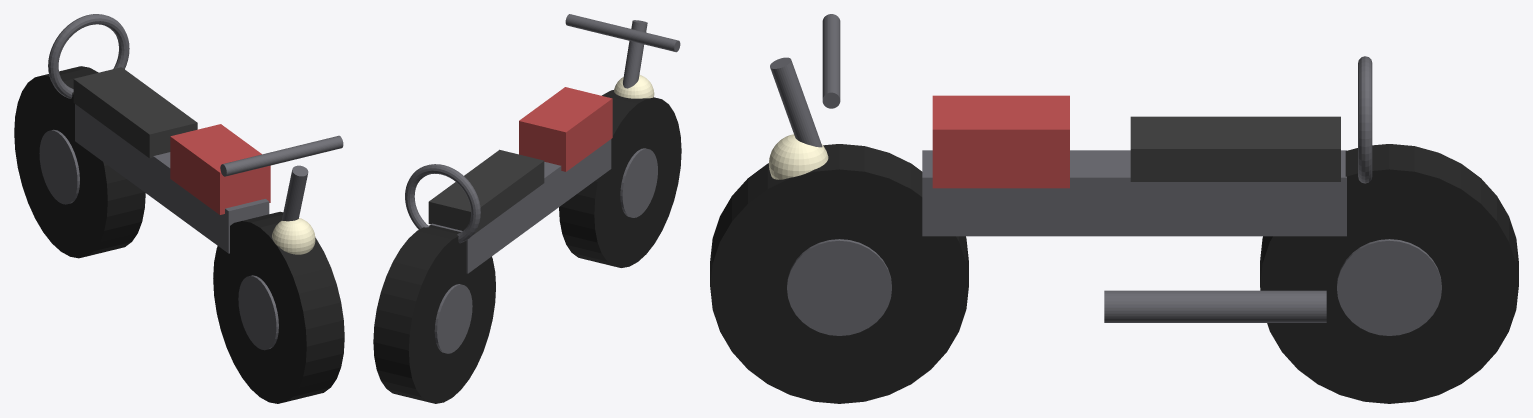
File: motor.glb
3 renders of one model, left to right at view 1: azimuth 30°, elevation 25°; view 2: azimuth 150°, elevation 25°; view 3: azimuth 270°, elevation 25°, orthographic. The views are drawn at different scales.
Parts seen in each view (by area): view 1: Motor; view 2: Motor; view 3: Motor.
Boxes of the visible parts, x1,y1,x2,y2 form: Motor: [14, 14, 344, 403]; Motor: [373, 14, 681, 403]; Motor: [710, 14, 1518, 403].
Bounding box in the file's own units: 0.46 × 0.922 × 2.
